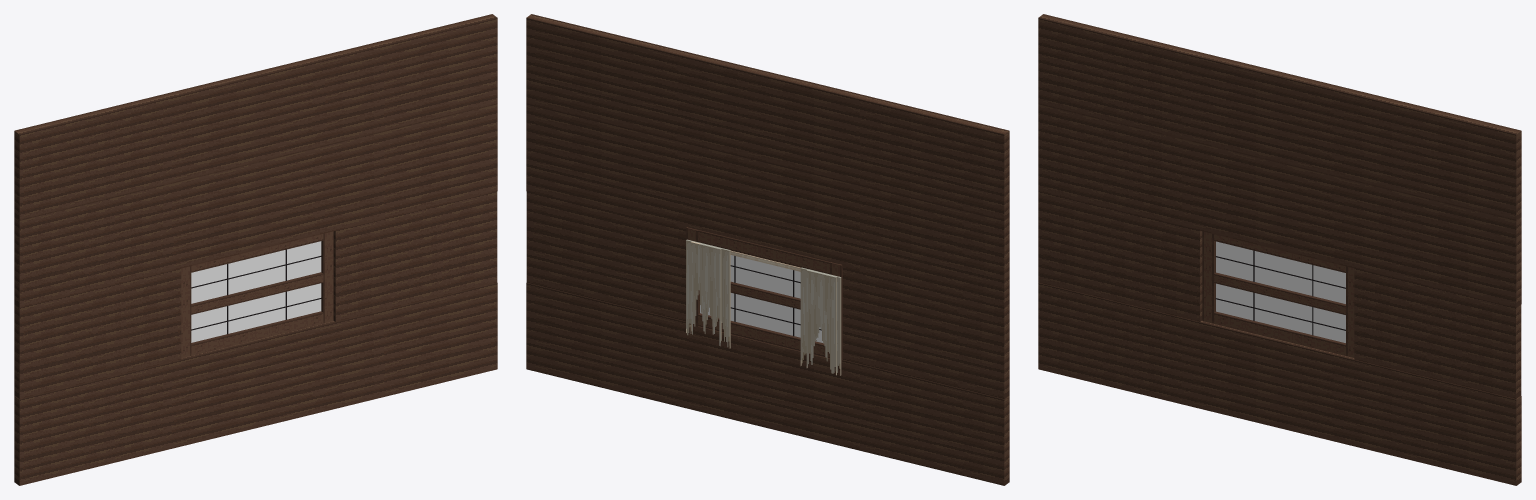
3 views of the same model, side by side, from view 1: azimuth 30°, elevation 25°; view 2: azimuth 150°, elevation 25°; view 3: azimuth 330°, elevation 25° (orthographic).
Parts seen in each view (by area): view 1: cube (×8), glass, bottomFrame, middleFrame, leftFrame, rightFrame, topFrame; view 2: cube (×8), glass, rightDrape2, leftDrape2, topFrame, leftDrape, bottomFrame, rightDrape, middleFrame; view 3: cube (×8), glass, bottomFrame, middleFrame, rightFrame, topFrame, leftFrame.
Boxes of the visible parts, box(x1,y1,x2,y2) form: cube (×8): box(14, 14, 497, 485); glass: box(191, 241, 321, 342); bottomFrame: box(191, 311, 323, 355); middleFrame: box(191, 272, 323, 314); leftFrame: box(321, 231, 333, 323); rightFrame: box(181, 266, 191, 357); topFrame: box(191, 234, 323, 272); cube (×8): box(526, 14, 1009, 485); glass: box(700, 255, 823, 343); rightDrape2: box(806, 270, 836, 375); leftDrape2: box(690, 241, 721, 346); topFrame: box(698, 230, 830, 274); leftDrape: box(686, 239, 730, 348); bottomFrame: box(698, 313, 829, 358); rightDrape: box(800, 267, 841, 375); middleFrame: box(730, 281, 800, 309); cube (×8): box(1038, 14, 1521, 485); glass: box(1216, 241, 1345, 342); bottomFrame: box(1214, 311, 1345, 355); middleFrame: box(1214, 272, 1345, 314); rightFrame: box(1202, 231, 1215, 323); topFrame: box(1214, 234, 1345, 272); leftFrame: box(1346, 266, 1354, 357).
Bounding box in the file's own units: 25.87 × 18.16 × 0.728.
2 materials, 2 textured.
